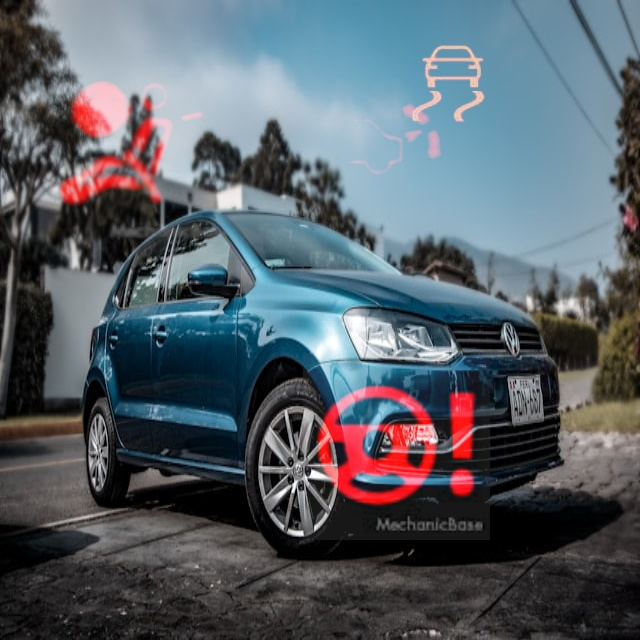symbol: (28, 37, 239, 248), (297, 43, 494, 240), (303, 353, 490, 540), (376, 14, 518, 156)
